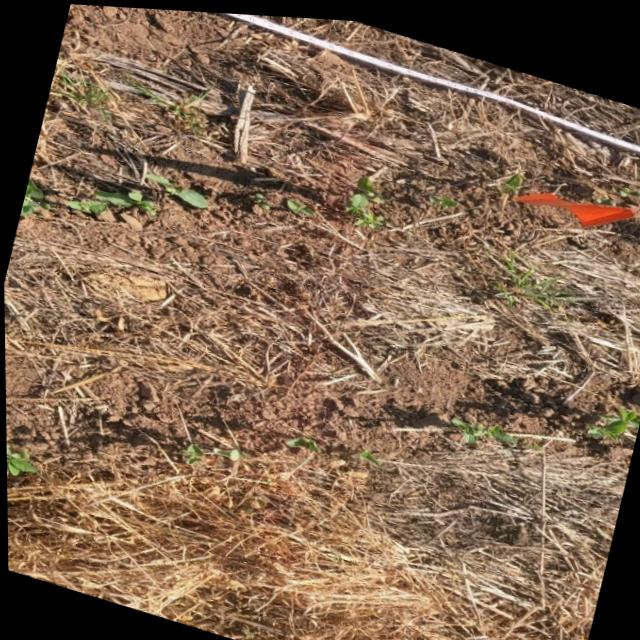grassy_weed: (495, 244, 583, 304), (147, 84, 228, 134), (49, 58, 109, 116), (160, 136, 181, 152)
soy_plant: (64, 187, 156, 213), (345, 171, 384, 224), (586, 399, 639, 431), (449, 414, 516, 437), (20, 177, 55, 214), (5, 445, 33, 474), (499, 165, 522, 186), (285, 431, 319, 445), (180, 440, 202, 461), (286, 195, 313, 212), (428, 188, 457, 202), (358, 446, 379, 461)
